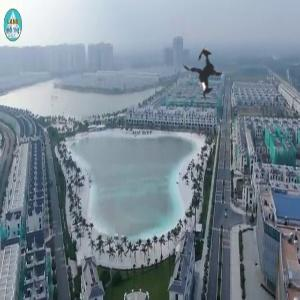drone: (159, 31, 249, 121)
